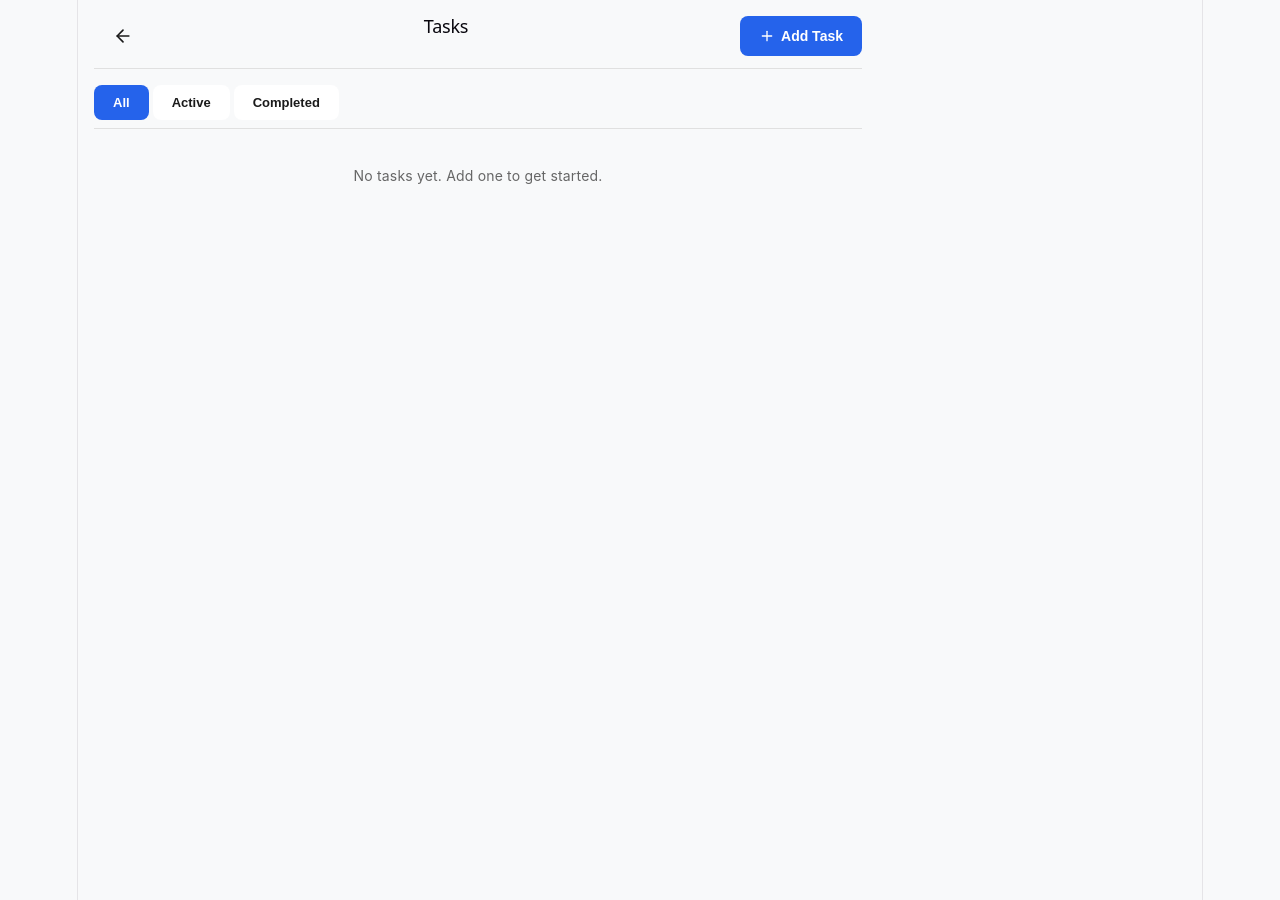
Test: TaskManager › shows add task form when Add Task is clicked
Click the button "Add Task". click: (801, 36)
box: [740,16,862,56]
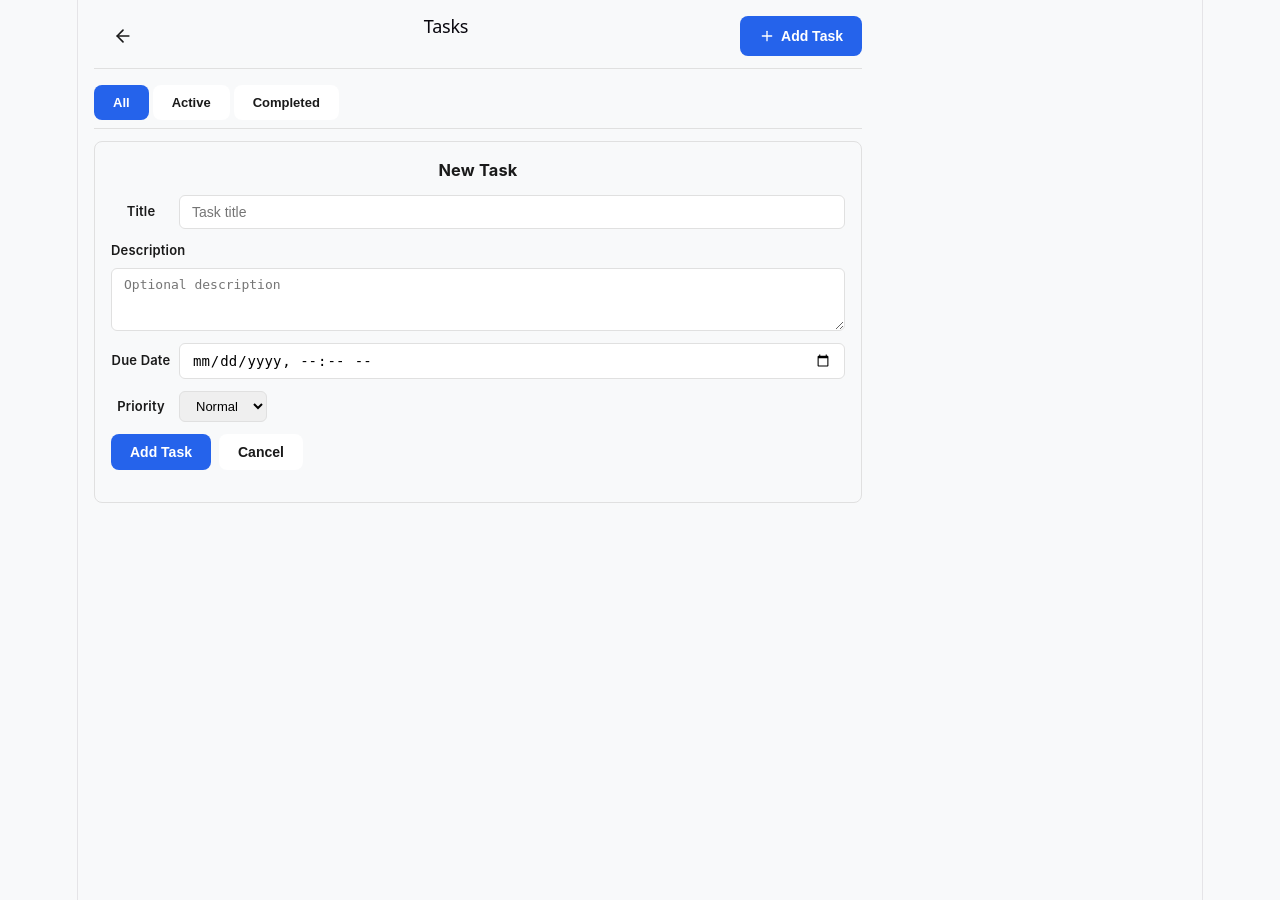
Check: the heading "New Task" is shown, box [438,160,518,180]
Check: the field with placeholder "Task title" is shown, box [179,195,845,229]
